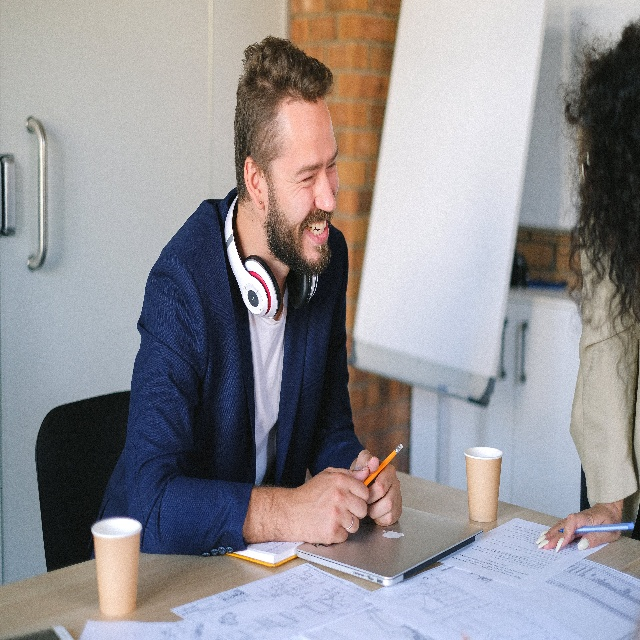Sin_guantes: (299, 468, 369, 542), (535, 500, 620, 553), (353, 450, 404, 526)
